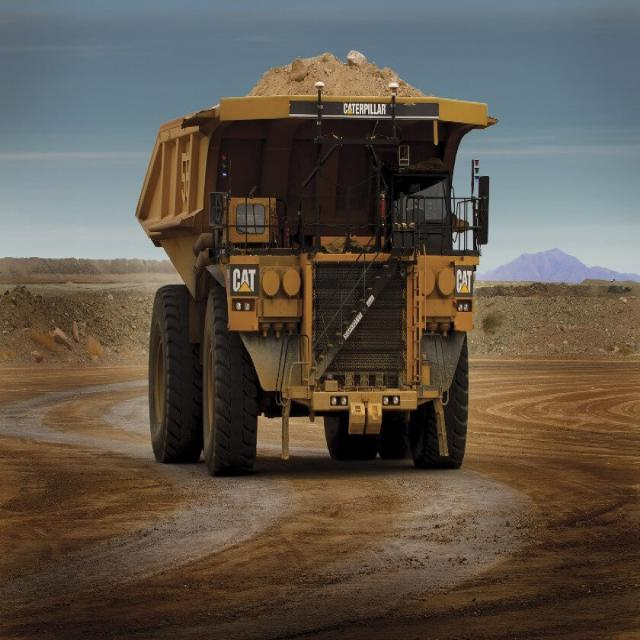dump_truck: (132, 48, 488, 485)
